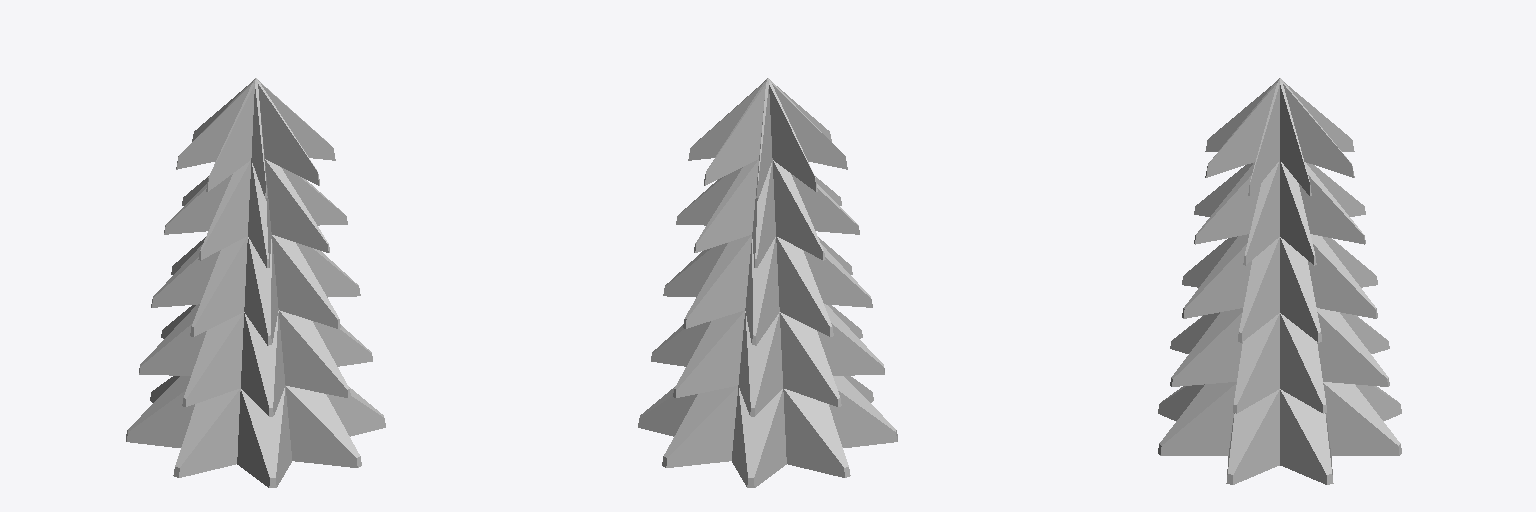
The model's file is tree.obj.
3 renders of one model, left to right at view 1: azimuth 30°, elevation 25°; view 2: azimuth 150°, elevation 25°; view 3: azimuth 270°, elevation 25°, orthographic.
Visible parts, largest first — view 1: tree; view 2: tree; view 3: tree.
Part boxes in pixels (bbox=[...]): tree: bbox=[126, 78, 385, 487]; tree: bbox=[638, 78, 897, 487]; tree: bbox=[1158, 78, 1401, 484].
Size of the model in its own units: 5927 by 9530 by 5927.